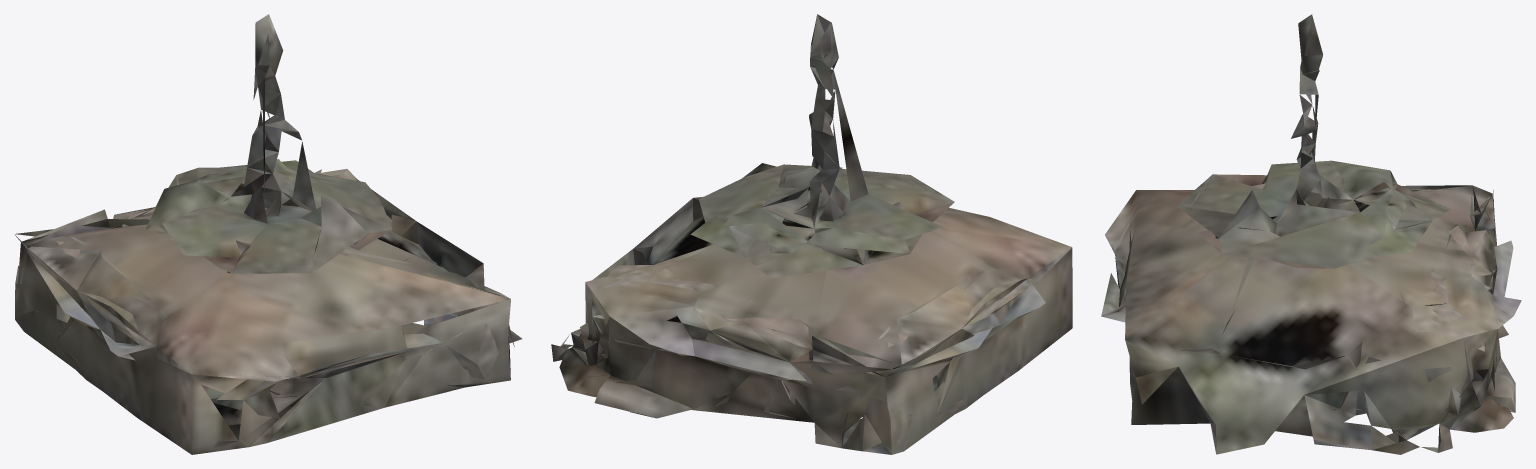
3 renders of one model, left to right at view 1: azimuth 30°, elevation 25°; view 2: azimuth 150°, elevation 25°; view 3: azimuth 270°, elevation 25°, orthographic.
Size of the model in its own units: 16.66 by 13.88 by 15.4.
Materials: 1 (1 with a texture image).
